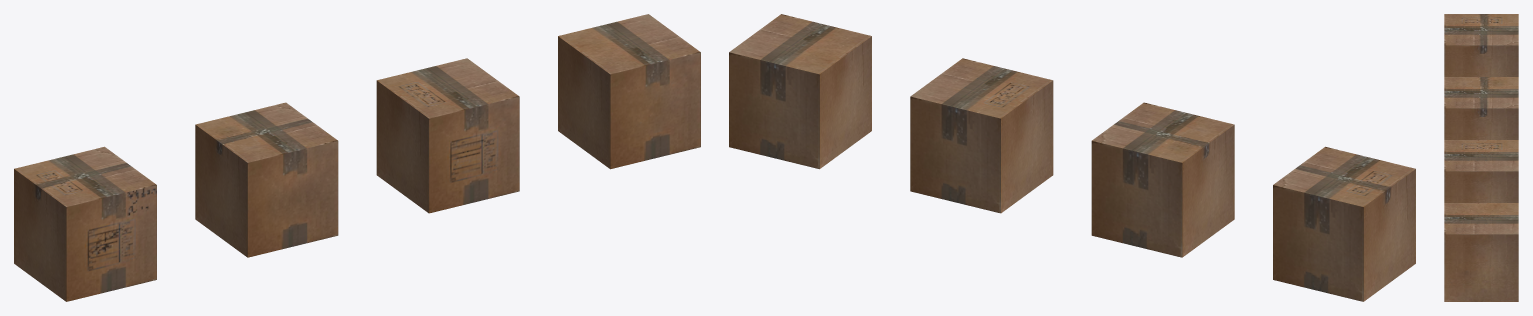
Rendered from Combined.fbx.
3 renders of one model, left to right at view 1: azimuth 30°, elevation 25°; view 2: azimuth 150°, elevation 25°; view 3: azimuth 270°, elevation 25°, orthographic. The views are drawn at different scales.
Visible parts, largest first — view 1: CardboardBox_2, CardboardBox_3, CardboardBox_1, CardboardBox_4; view 2: CardboardBox_2, CardboardBox_3, CardboardBox_1, CardboardBox_4; view 3: CardboardBox_4, CardboardBox_1, CardboardBox_2, CardboardBox_3.
Boxes of the visible parts, x1=… form: CardboardBox_2: x1=195, y1=102, x2=338, y2=257; CardboardBox_3: x1=376, y1=58, x2=519, y2=213; CardboardBox_1: x1=14, y1=146, x2=156, y2=301; CardboardBox_4: x1=558, y1=14, x2=700, y2=169; CardboardBox_2: x1=1091, y1=102, x2=1234, y2=257; CardboardBox_3: x1=910, y1=58, x2=1053, y2=213; CardboardBox_1: x1=1273, y1=146, x2=1415, y2=301; CardboardBox_4: x1=729, y1=14, x2=871, y2=169; CardboardBox_4: x1=1444, y1=203, x2=1518, y2=301; CardboardBox_1: x1=1444, y1=14, x2=1518, y2=76; CardboardBox_2: x1=1444, y1=77, x2=1518, y2=139; CardboardBox_3: x1=1444, y1=140, x2=1518, y2=202.
Bounding box in the file's own units: 350 × 50 × 50.
